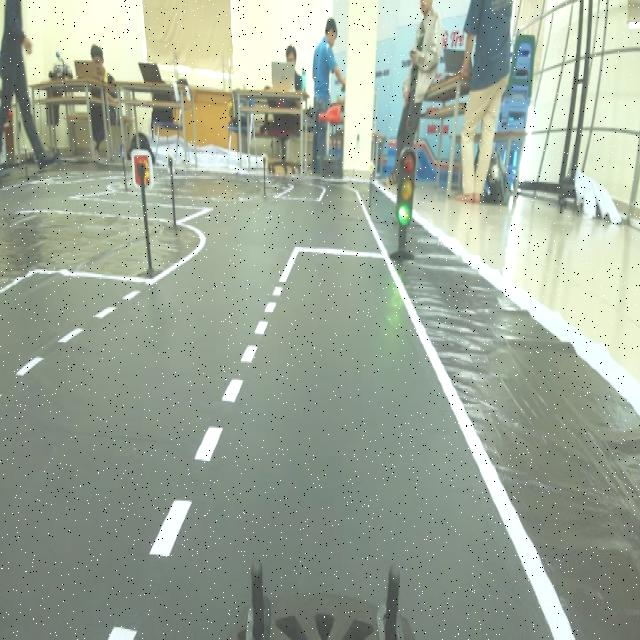trafficlight: (385, 137, 424, 280)
